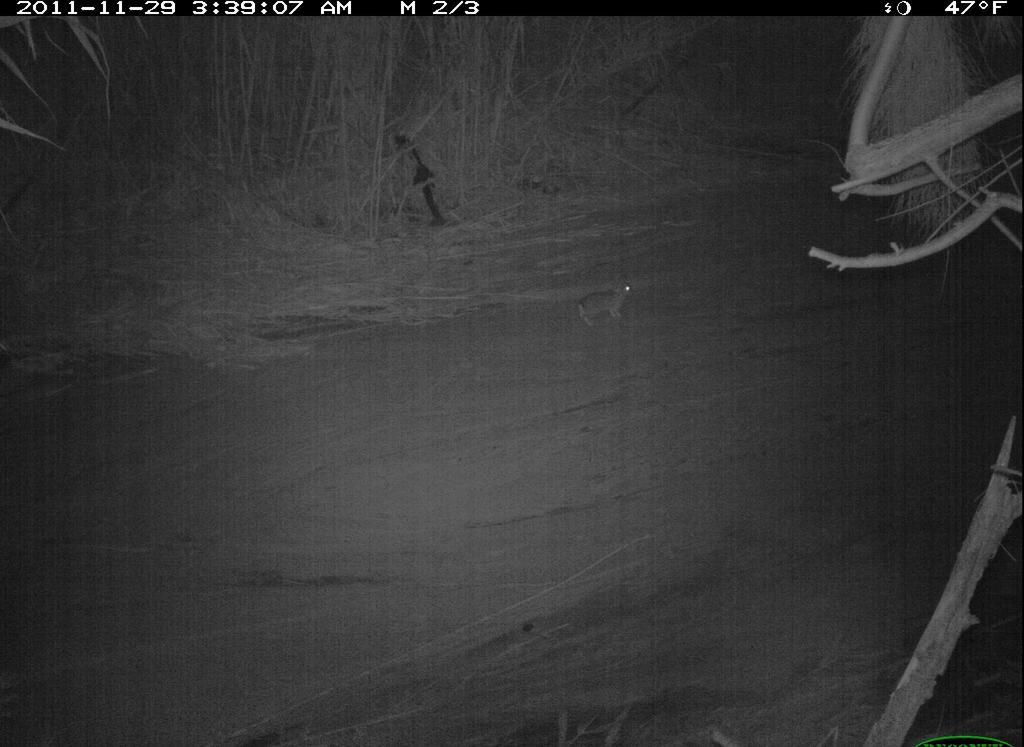rabbit: (569, 271, 642, 331)
